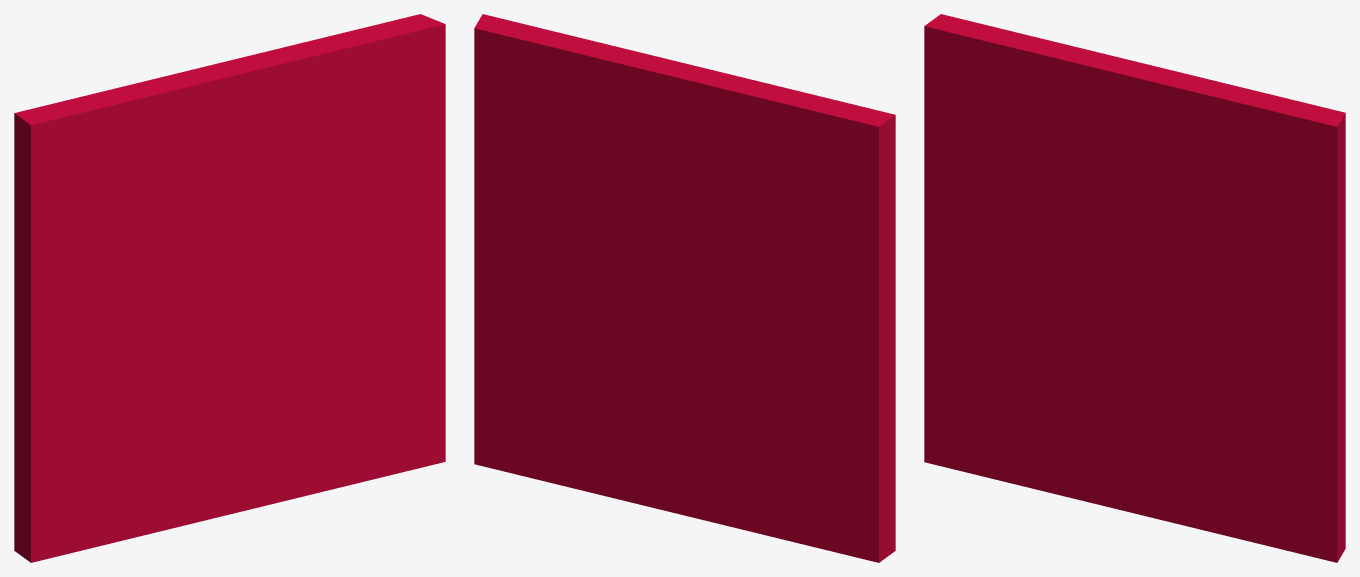
Rendered from simple_example_hole_part_25.obj.
3 renders of one model, left to right at view 1: azimuth 30°, elevation 25°; view 2: azimuth 150°, elevation 25°; view 3: azimuth 330°, elevation 25°, orthographic.
Size of the model in its own units: 17.23 by 17.39 by 1.2.
